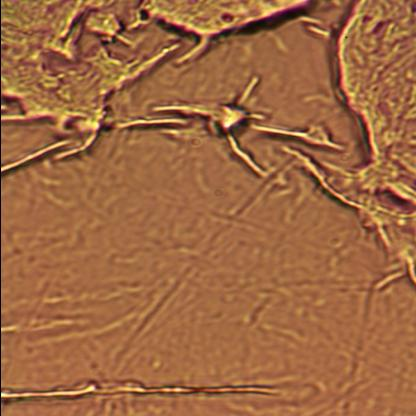Stage I: (0, 0, 304, 129), (333, 0, 416, 231)
